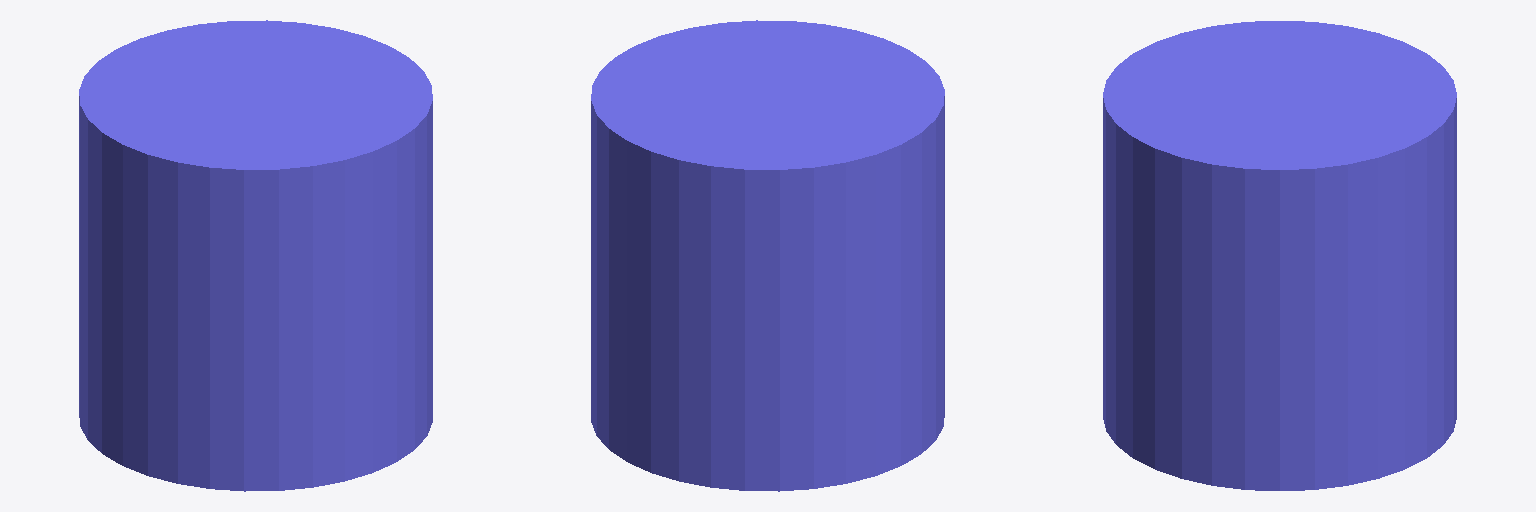
URDF robot description (cylinder):
<robot name="cylinder">
    <link name="base_link">
        <inertial>
            <origin xyz="0 0 0" rpy="0 0 0"/>
            <mass value="0.1"/>
            <!-- 圆柱体惯性矩计算：Ixx=Iyy=1/4 mr² + 1/12 mh²，Izz=1/2 mr² -->
            <inertia ixx="0.000036" ixy="0.0" ixz="0.0" 
                     iyy="0.000036" iyz="0.0" 
                     izz="0.0000156"/>
        </inertial>
        
        <visual>
            <geometry>
                <!-- 圆柱体参数：半径0.025m，高度0.05m（等效原立方体体积） -->
                <cylinder radius="0.025" length="0.05"/>
            </geometry>
            <material name="cylinder_material">
                <color rgba="0.5 0.5 1 1"/>
            </material>
        </visual>
        
        <collision>
            <geometry>
                <cylinder radius="0.025" length="0.05"/>
            </geometry>
            <surface>
                <mu1>1.8</mu1> 
                <mu2>1.8</mu2>
                <friction>
                    <ode>
                        <mu>2</mu>
                        <mu2>1.8</mu2>
                    </ode>
                </friction>
                <restitution>
                    <coefficient>0.1</coefficient>
                </restitution>
            </surface>
        </collision>
    </link>
</robot>
    

--- Facts derived from the render (not from the file) ---
Views: 3 orthographic renders of the robot side by side, from view 1: azimuth 30°, elevation 25°; view 2: azimuth 150°, elevation 25°; view 3: azimuth 270°, elevation 25°.
Robot: cylinder — 1 links, 0 joints (none); root link base_link; default pose: all joints at 0.
Visible links, largest first — view 1: base_link; view 2: base_link; view 3: base_link.
Link boxes in pixels (x1,y1,x2,y2): base_link: (79,20,432,491); base_link: (591,20,944,491); base_link: (1103,21,1456,490).
Size in the robot's own frame: 0.05 by 0.05 by 0.05 metres.
Geometry: primitives only (box / cylinder / sphere), no mesh files.
